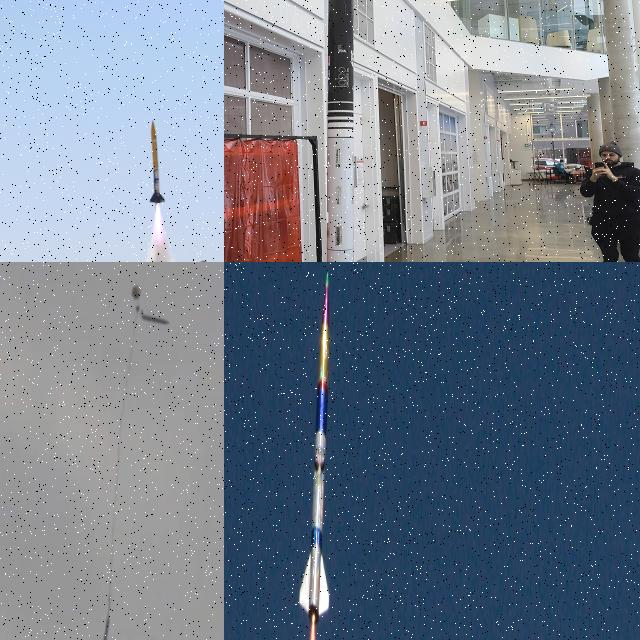Rocket: (299, 267, 331, 624), (327, 0, 354, 262), (148, 119, 166, 204), (99, 613, 110, 640)
